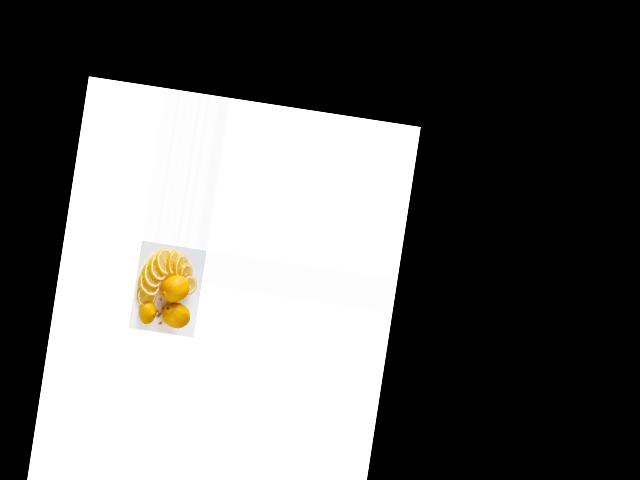lemon: (137, 302, 159, 325)
